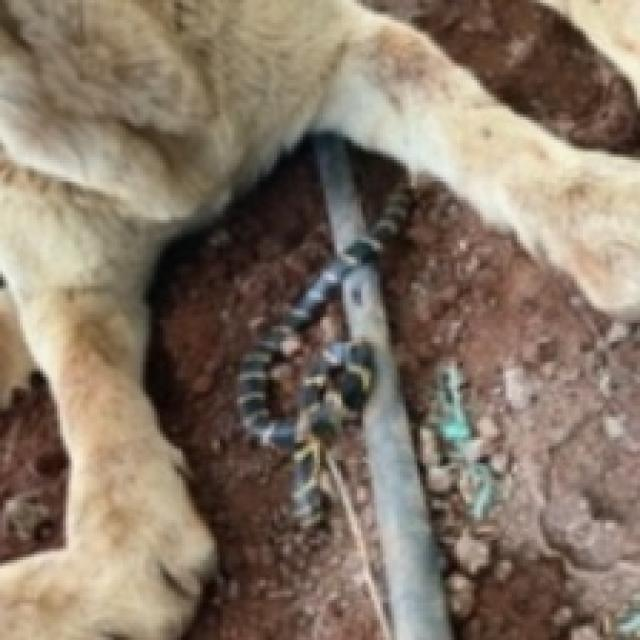king cobra: (0, 0, 637, 637), (237, 134, 449, 637)
